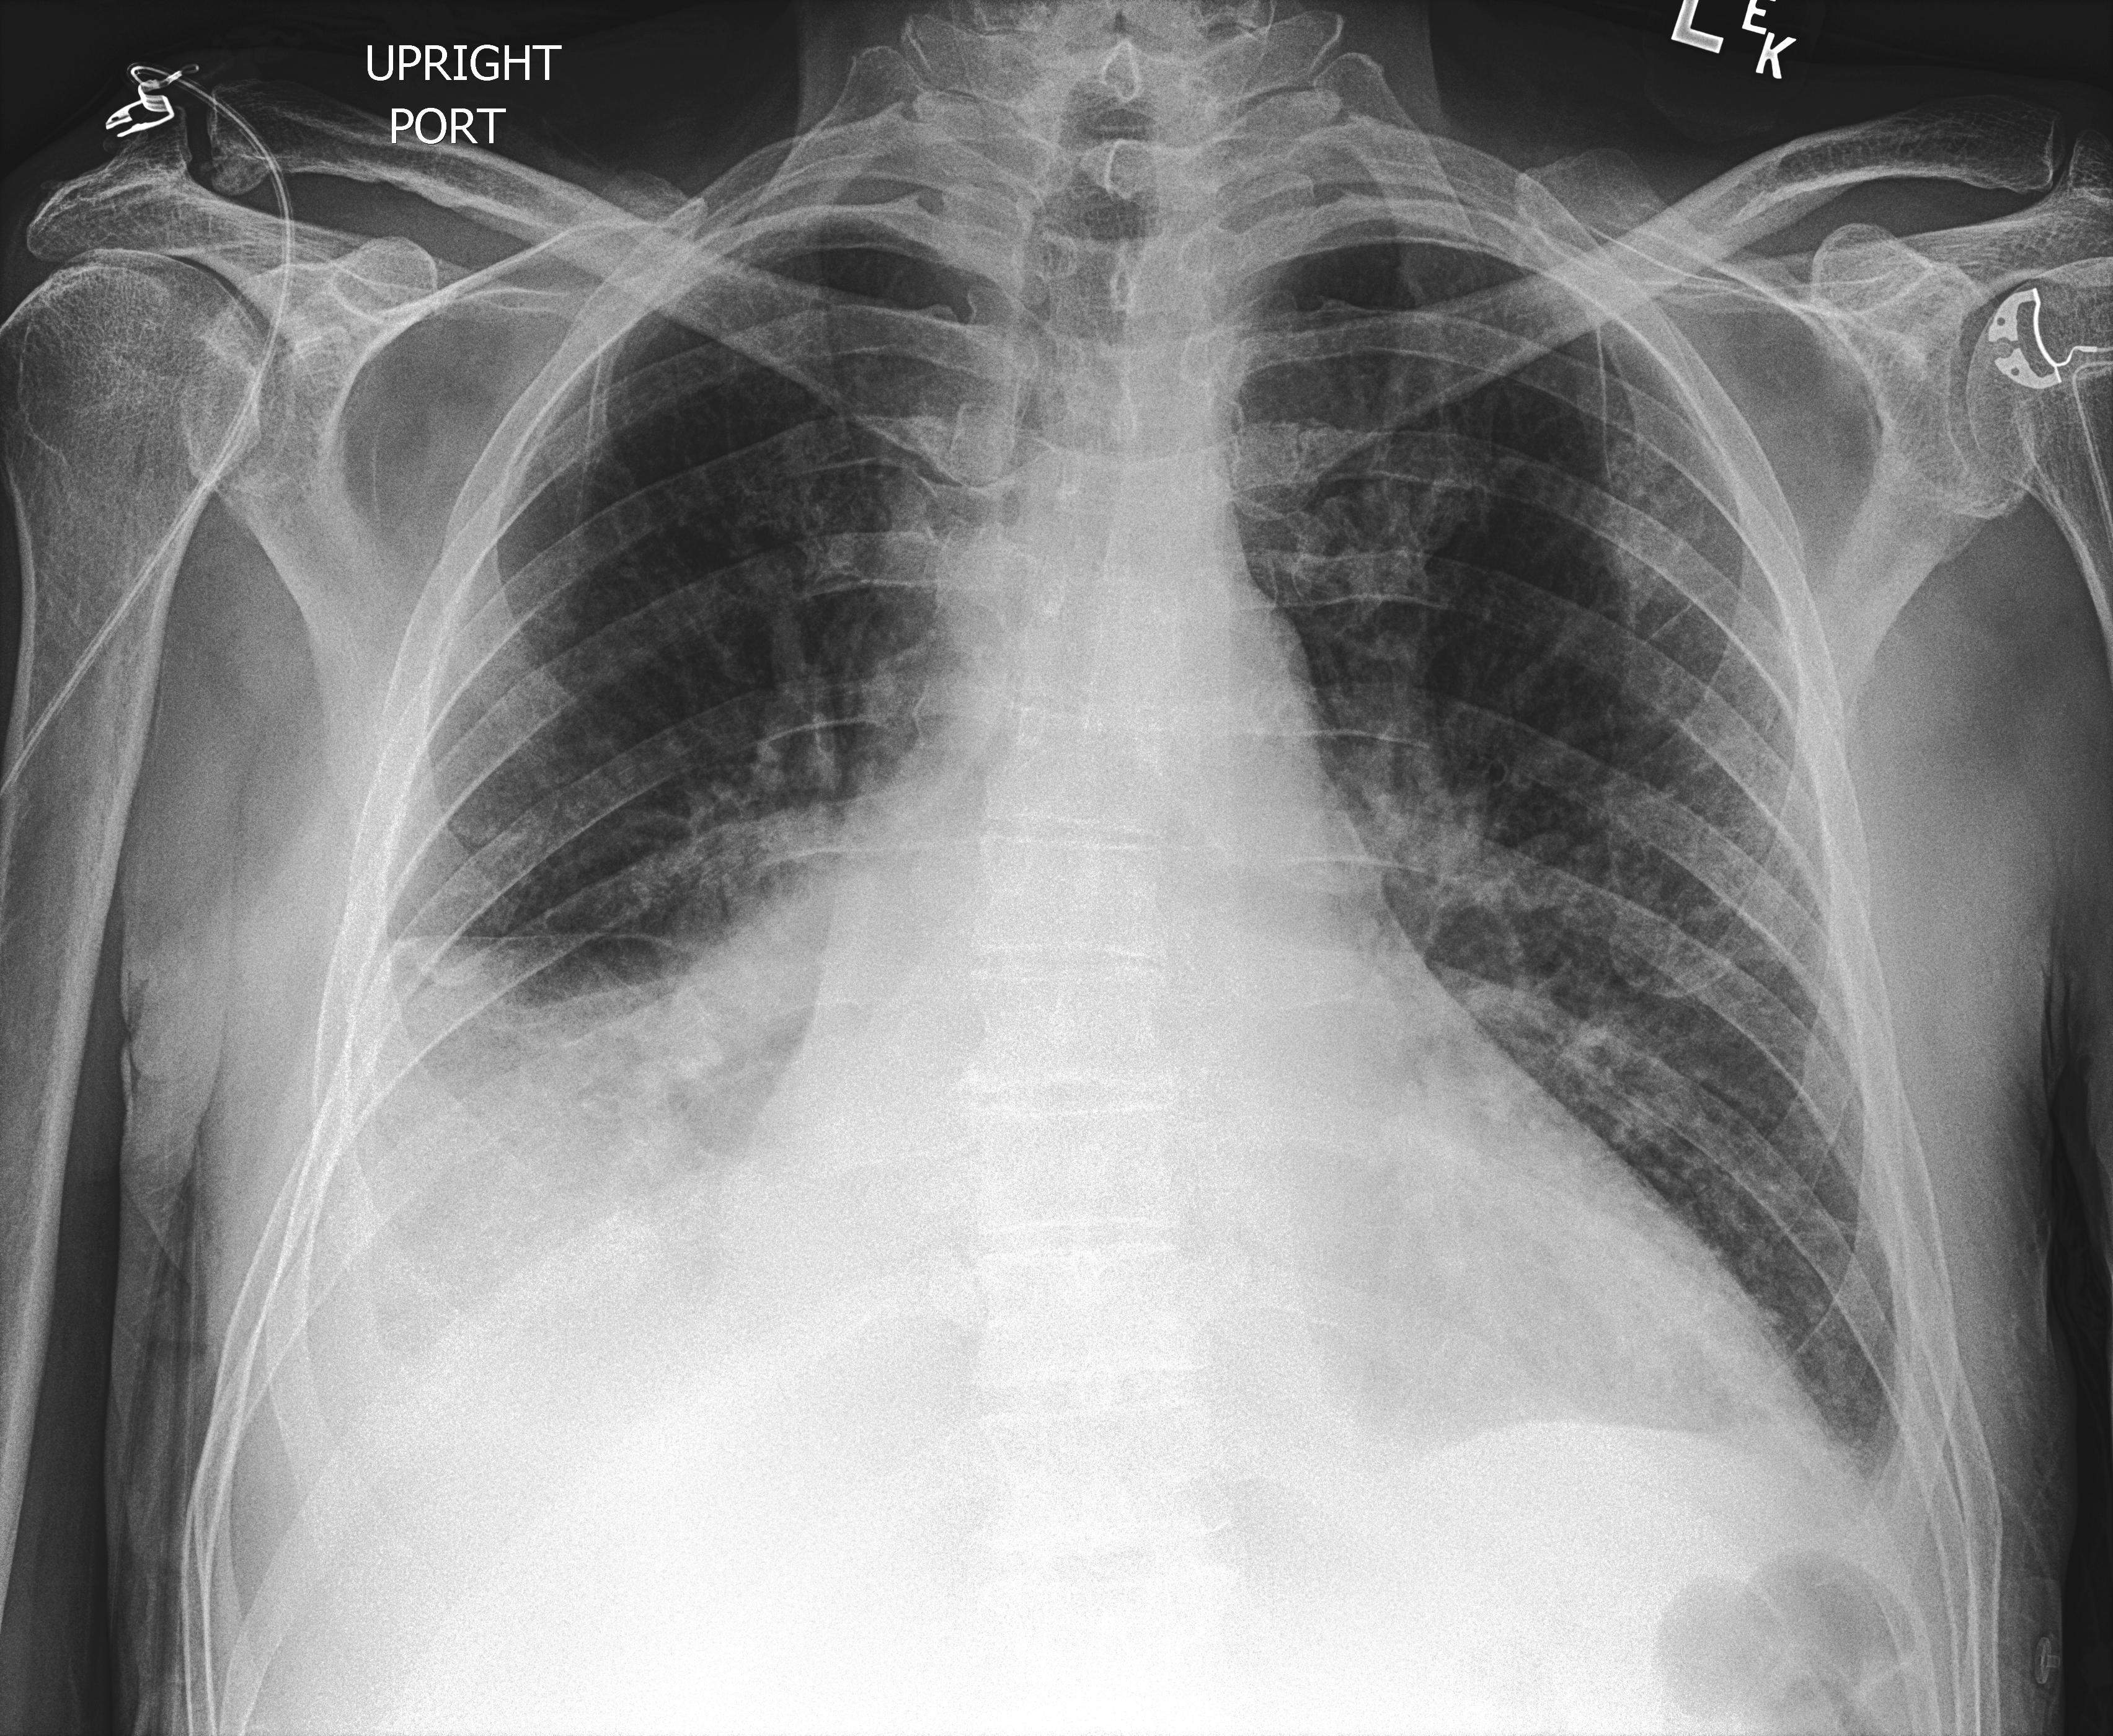Pleural Effusion: (247, 936, 667, 1459)
